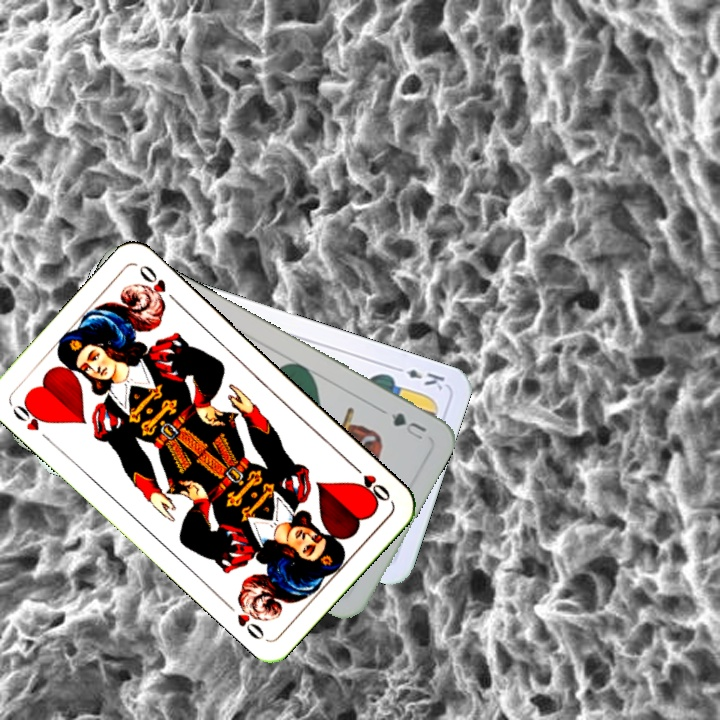EK: (389, 362, 447, 393)
GU: (385, 408, 429, 443)
HO: (347, 459, 393, 504), (8, 396, 51, 434)
